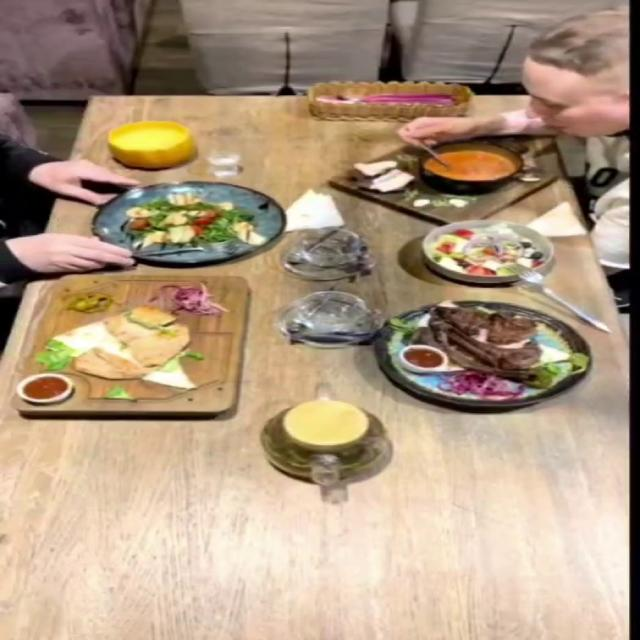meat: (372, 300, 592, 407)
salat: (88, 180, 282, 264), (421, 219, 557, 284)
soup: (329, 135, 563, 226), (106, 120, 196, 168)
tea: (282, 398, 368, 446)
